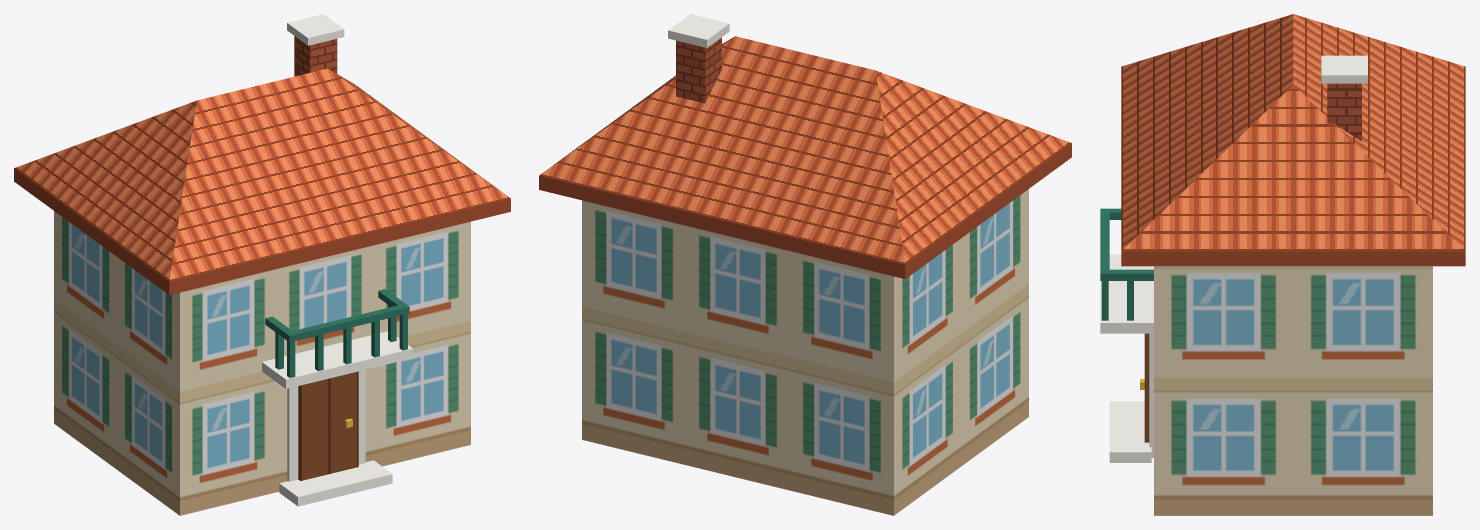
The model's file is twofloor.glb.
3 renders of one model, left to right at view 1: azimuth 30°, elevation 25°; view 2: azimuth 150°, elevation 25°; view 3: azimuth 270°, elevation 25°, orthographic. The views are drawn at different scales.
Parts seen in each view (by area): view 1: twofloor; view 2: twofloor; view 3: twofloor.
Part boxes in pixels (bbox=[...]): twofloor: bbox=[14, 14, 510, 515]; twofloor: bbox=[539, 14, 1071, 515]; twofloor: bbox=[1100, 14, 1465, 515].
Size of the model in its own units: 1.88 by 1.96 by 1.57.
Materials: 8 (4 with a texture image).
